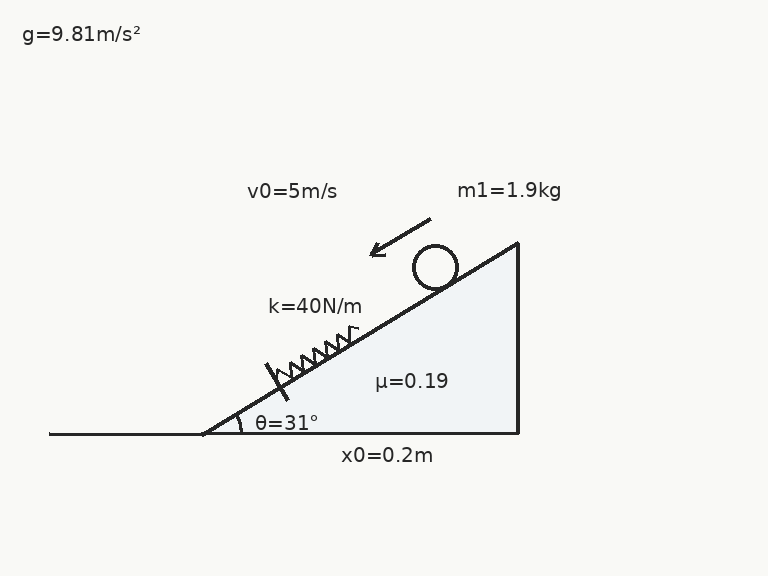ball: (410, 242, 460, 292)
ramp: (199, 241, 520, 436)
spring: (274, 325, 360, 381)
